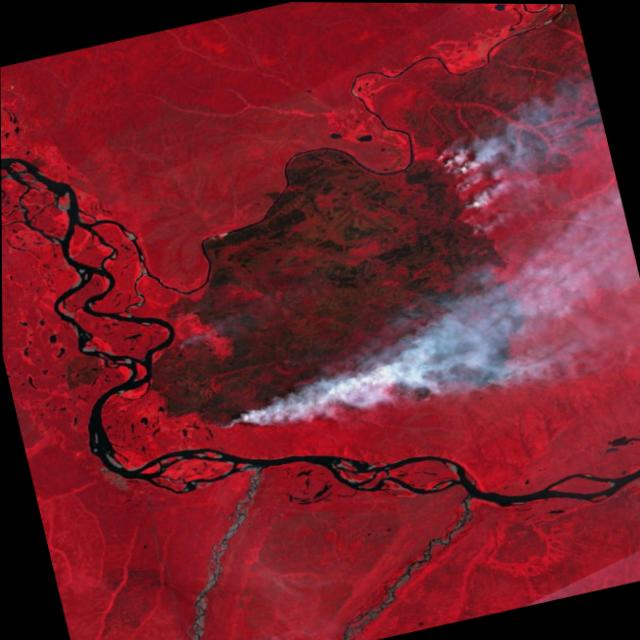fire: (194, 326, 527, 455), (431, 141, 496, 241)
